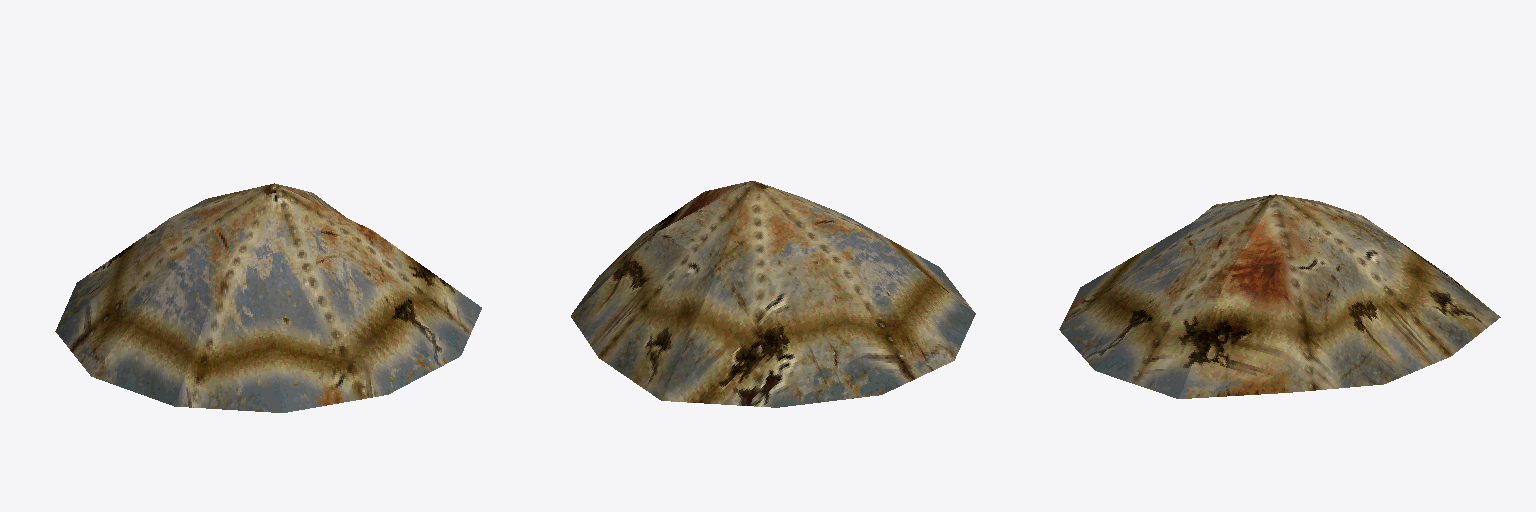
The picture shows the model from 3 angles: view 1: azimuth 30°, elevation 25°; view 2: azimuth 150°, elevation 25°; view 3: azimuth 270°, elevation 25°; orthographic projection.
Parts seen in each view (by area): view 1: Swatertowertop00-00.Swatertowertop00-00_Swatertowertop00-00; view 2: Swatertowertop00-00.Swatertowertop00-00_Swatertowertop00-00; view 3: Swatertowertop00-00.Swatertowertop00-00_Swatertowertop00-00.
Part boxes in pixels (x1,y1,x2,y2): Swatertowertop00-00.Swatertowertop00-00_Swatertowertop00-00: (55,183,481,412); Swatertowertop00-00.Swatertowertop00-00_Swatertowertop00-00: (571,181,975,407); Swatertowertop00-00.Swatertowertop00-00_Swatertowertop00-00: (1059,194,1500,398).
Bounding box in the file's own units: 1.84 × 0.6992 × 2.
Materials: 3 (3 with a texture image).